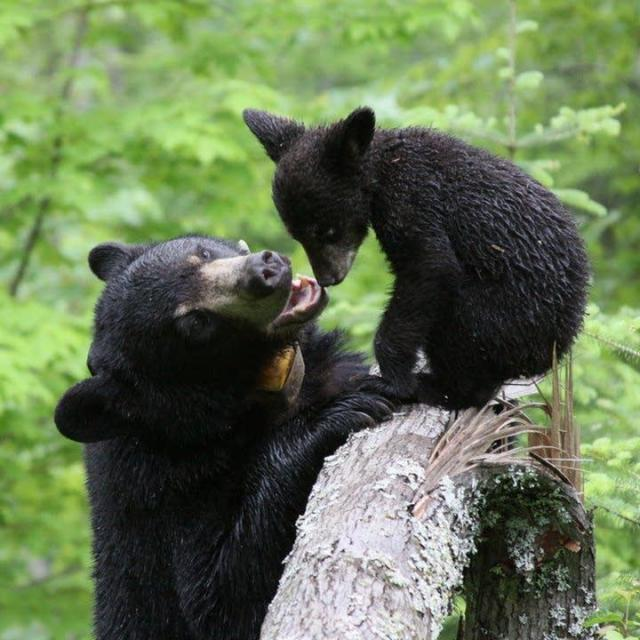Bear: (52, 236, 388, 640), (241, 108, 591, 421)
